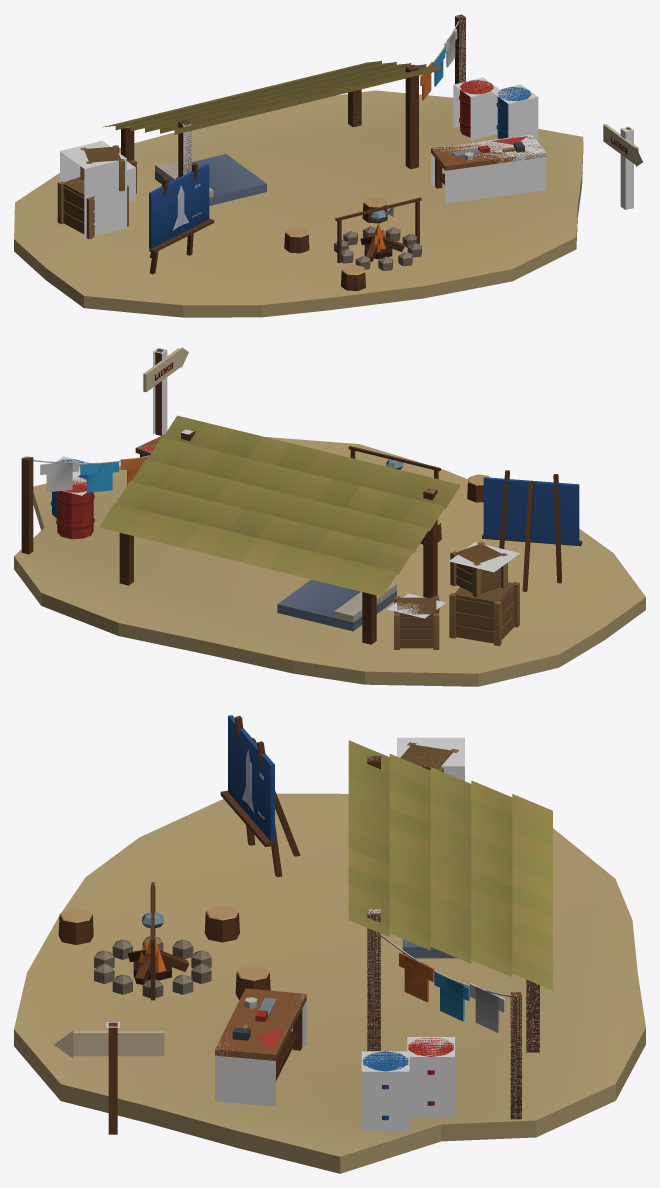
The model's file is pg_camp.glb.
3 views of the same model, one above another, from view 1: azimuth 30°, elevation 25°; view 2: azimuth 150°, elevation 25°; view 3: azimuth 270°, elevation 25° (orthographic). The views are drawn at different scales.
Parts seen in each view (by area): view 1: pg_camp, COL_4, COL_5, COL_7, COL_8, COL_10; view 2: pg_camp, COL_5, COL_10; view 3: pg_camp, COL_8, COL_7, COL_4, COL_5, COL_1, COL_9.
Boxes of the visible parts, x1,y1,x2,y2 form: pg_camp: (14, 14, 642, 317); COL_4: (431, 134, 546, 203); COL_5: (60, 140, 126, 238); COL_7: (453, 77, 499, 140); COL_8: (491, 84, 538, 140); COL_10: (620, 126, 633, 209); pg_camp: (14, 347, 645, 686); COL_5: (449, 542, 519, 572); COL_10: (153, 347, 167, 435); pg_camp: (14, 715, 645, 1173); COL_8: (361, 1051, 409, 1131); COL_7: (407, 1037, 454, 1117); COL_4: (215, 994, 306, 1106); COL_5: (397, 737, 464, 780); COL_1: (367, 909, 380, 1051); COL_9: (510, 992, 521, 1118).
Size of the model in its own units: 15.14 by 3.11 by 11.13.
